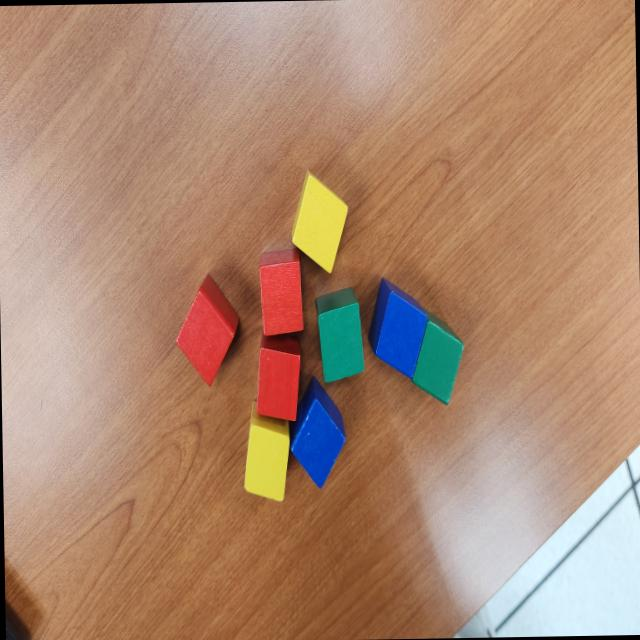blue: (287, 374, 347, 488), (367, 277, 429, 378)
green: (409, 312, 465, 406), (315, 286, 364, 384)
red: (174, 274, 240, 388), (255, 329, 302, 423), (254, 248, 304, 336)
yellow: (291, 171, 349, 273), (241, 398, 291, 502)
